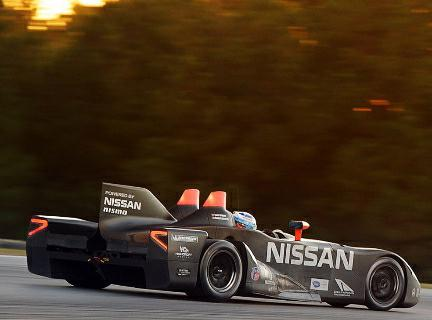日产-DeltaWing: (21, 178, 430, 315)
